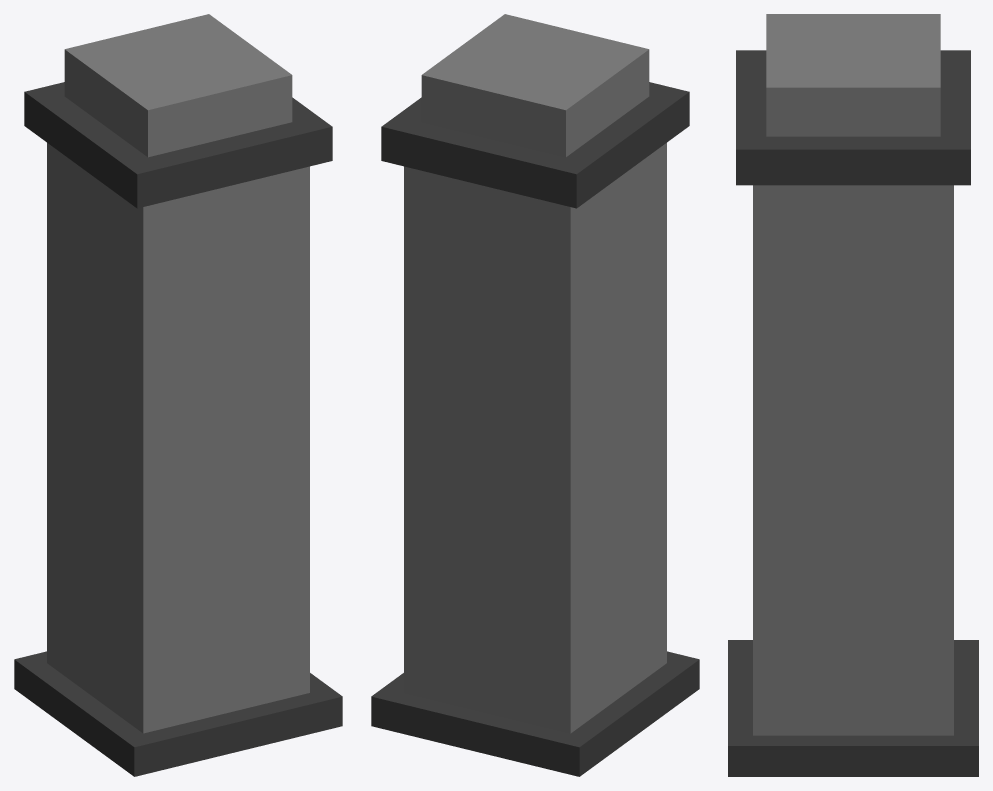
Rendered from wall_Pillar.fbx.
3 views of the same model, side by side, from view 1: azimuth 30°, elevation 25°; view 2: azimuth 150°, elevation 25°; view 3: azimuth 270°, elevation 25° (orthographic). The views are drawn at different scales.
Parts seen in each view (by area): view 1: wall_Pillar; view 2: wall_Pillar; view 3: wall_Pillar.
Boxes of the visible parts, x1=… form: wall_Pillar: x1=14, y1=14, x2=342, y2=776; wall_Pillar: x1=371, y1=14, x2=699, y2=776; wall_Pillar: x1=728, y1=14, x2=978, y2=776.
Size of the model in its own units: 39.33 by 116 by 39.33.
